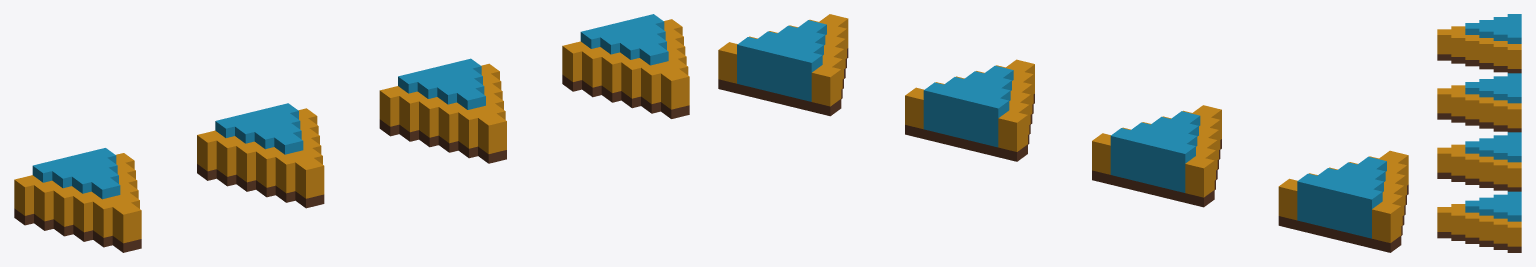
Rendered from arrow_4.obj.
3 views of the same model, side by side, from view 1: azimuth 30°, elevation 25°; view 2: azimuth 150°, elevation 25°; view 3: azimuth 270°, elevation 25° (orthographic). The views are drawn at different scales.
Size of the model in its own units: 7.2 by 0.5 by 1.2.
Materials: 1 (1 with a texture image).
